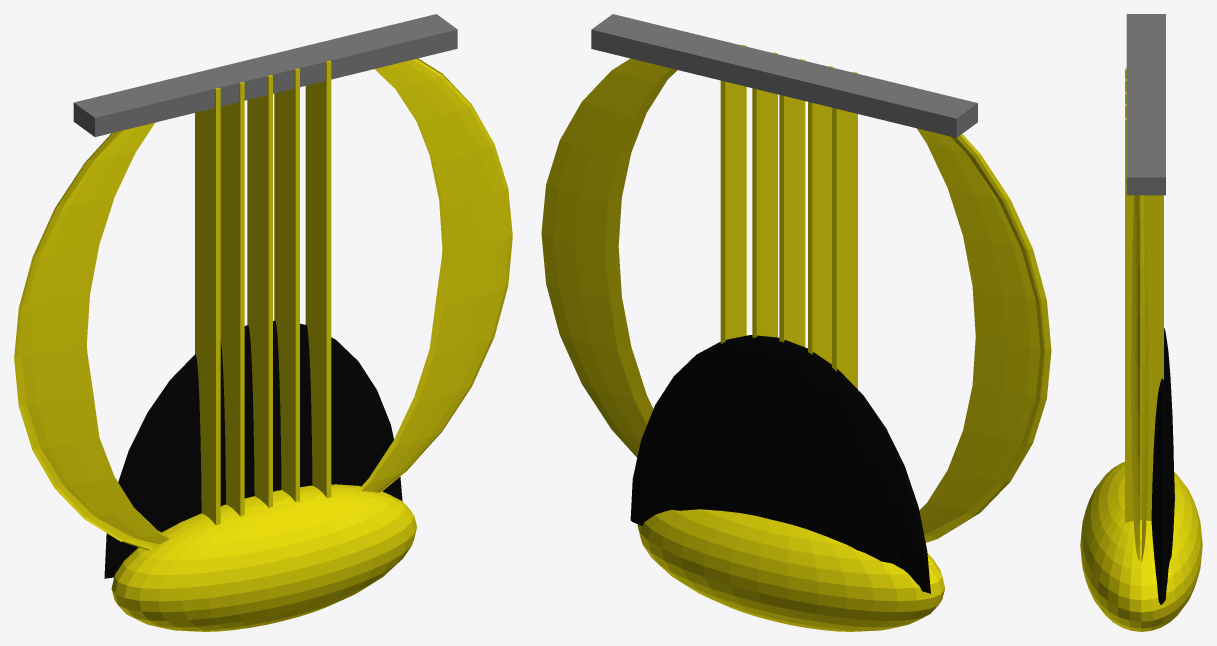
Rendered from Lyre.fbx.
The picture shows the model from 3 angles, left to right: view 1: azimuth 30°, elevation 25°; view 2: azimuth 150°, elevation 25°; view 3: azimuth 270°, elevation 25°; orthographic projection. The views are drawn at different scales.
Visible parts, largest first — view 1: Sphere.009; view 2: Sphere.009; view 3: Sphere.009.
Boxes of the visible parts, box(x1,y1,x2,y2) form: Sphere.009: box(14, 14, 512, 631); Sphere.009: box(541, 14, 1051, 631); Sphere.009: box(1080, 14, 1202, 631).
Bounding box in the file's own units: 219 × 228 × 50.
